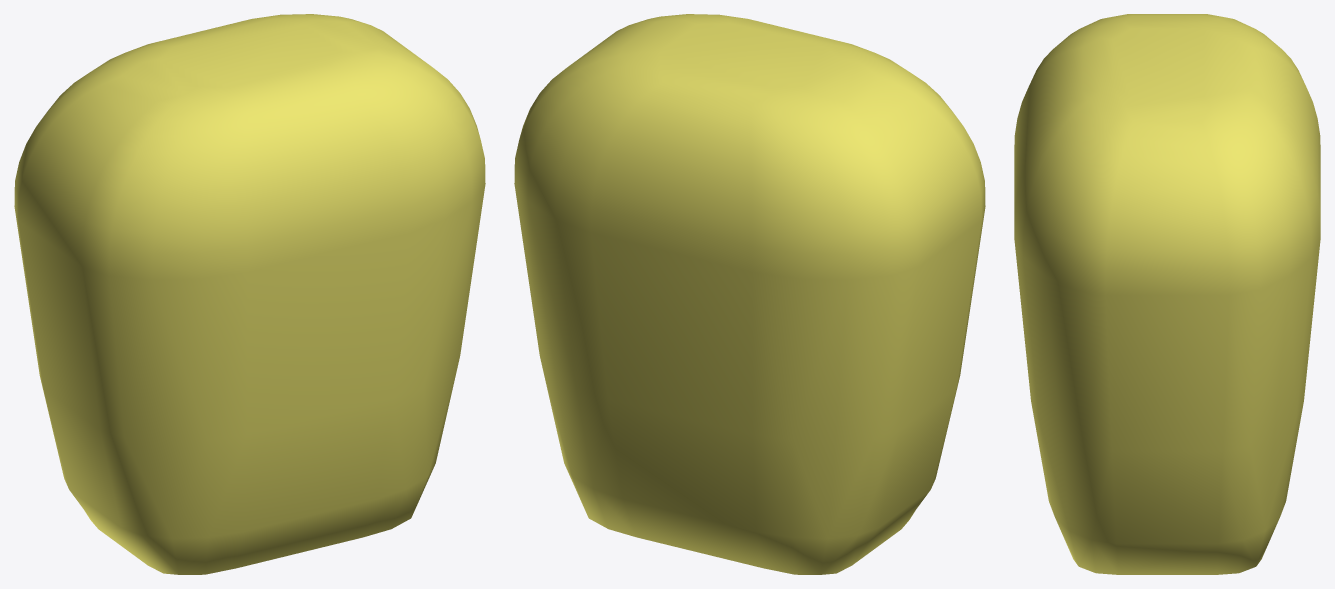
Rendered from kernel.glb.
3 renders of one model, left to right at view 1: azimuth 30°, elevation 25°; view 2: azimuth 150°, elevation 25°; view 3: azimuth 270°, elevation 25°, orthographic. The views are drawn at different scales.
Parts seen in each view (by area): view 1: Kernel.435; view 2: Kernel.435; view 3: Kernel.435.
Part boxes in pixels (box(x1,y1,x2,y2)): Kernel.435: box(14, 14, 485, 574); Kernel.435: box(514, 14, 985, 574); Kernel.435: box(1014, 14, 1320, 574).
Bounding box in the file's own units: 0.2167 × 0.2422 × 0.1468.
